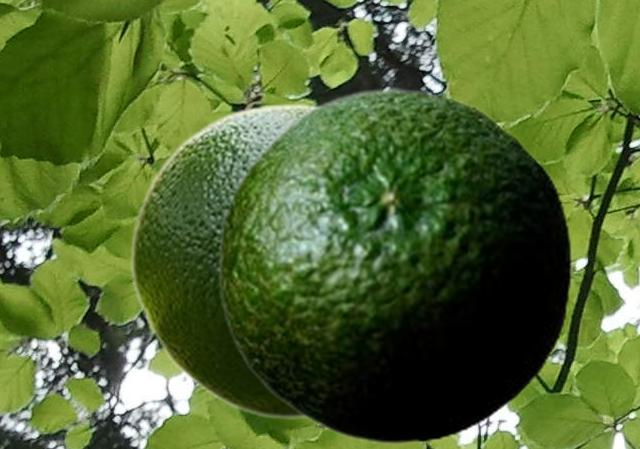calamansi: (217, 87, 571, 444), (129, 102, 320, 418)
